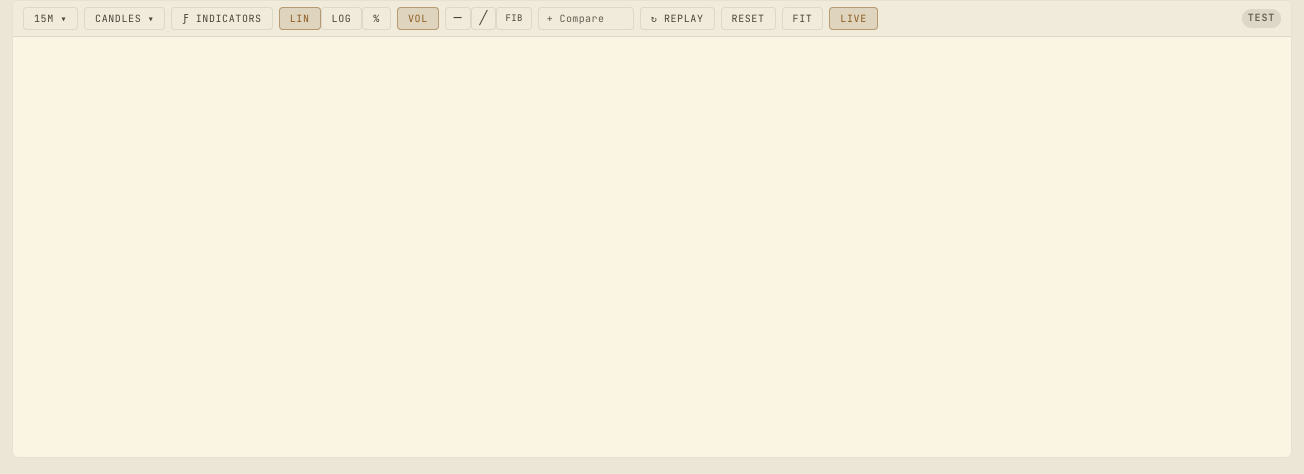
Scenario: Compare overlay › adds a compare chip via the toolbar input and removes it
Step 1. Type "ETHUSDT" into the field with test id "sm-chart-compare-add" → (586, 18), box [538,7,634,30]
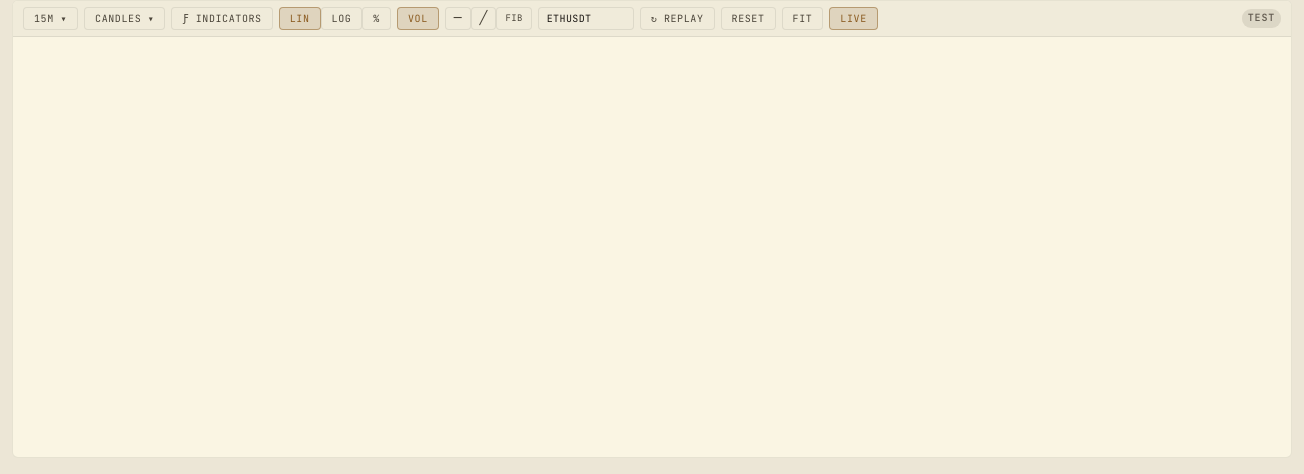
Step 2. Press Enter in the field with test id "sm-chart-compare-add", box [538,7,634,30]
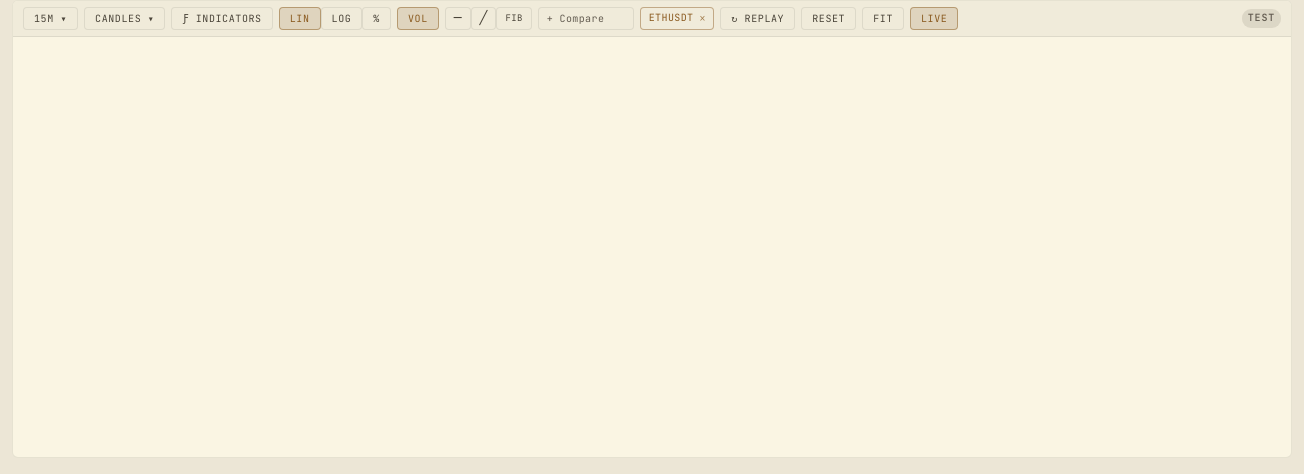
Now the element with test id "sm-chart-compare-chip-ETHUSDT" is shown, box [640,7,714,30]
Step 3. Click the button named "Remove compare ETHUSDT" → (702, 18), box [696,12,709,24]
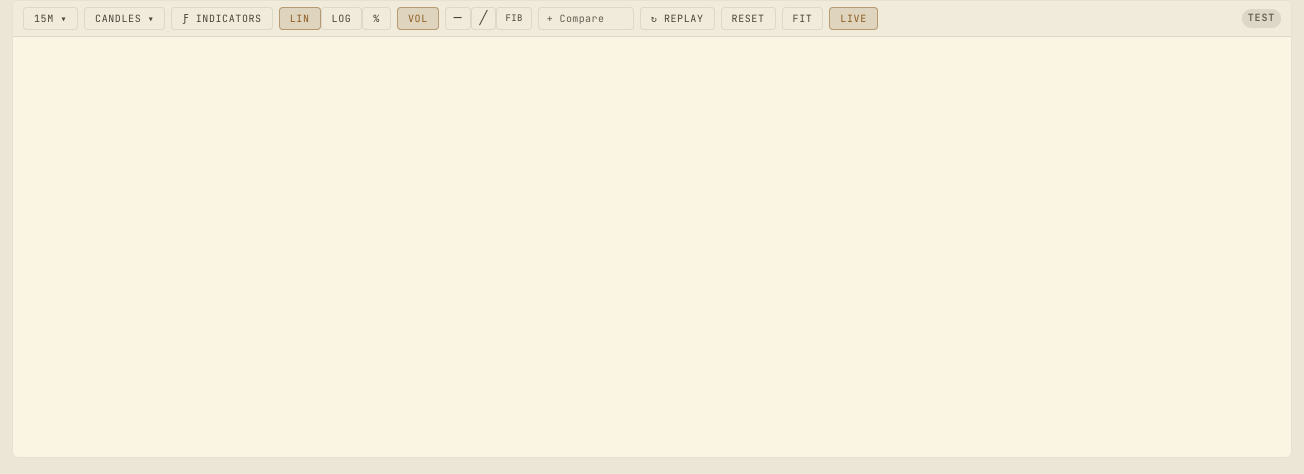
Now the element with test id "sm-chart-compare-chip-ETHUSDT" is gone
